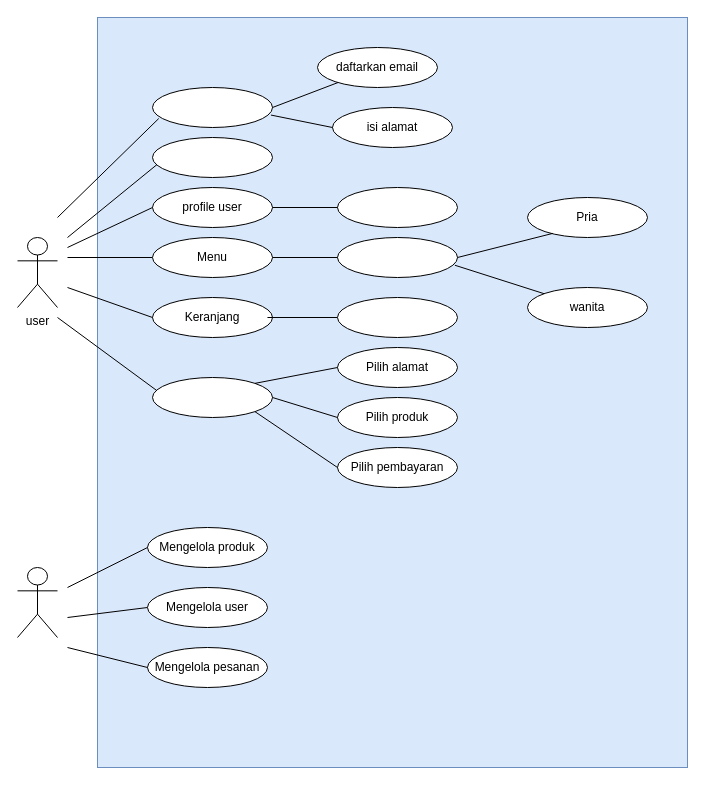
This 705x785 diagram has some shape labels left out. Each missing label, with the centre of its shape:
"Admin" goes at (37,602).
"Daftar" goes at (212,107).
"Lihat isi keranjang" goes at (397,317).
"login" goes at (212,157).
"Pesan" goes at (212,397).
"Produk" goes at (397,257).
"update profile" goes at (397,207).
